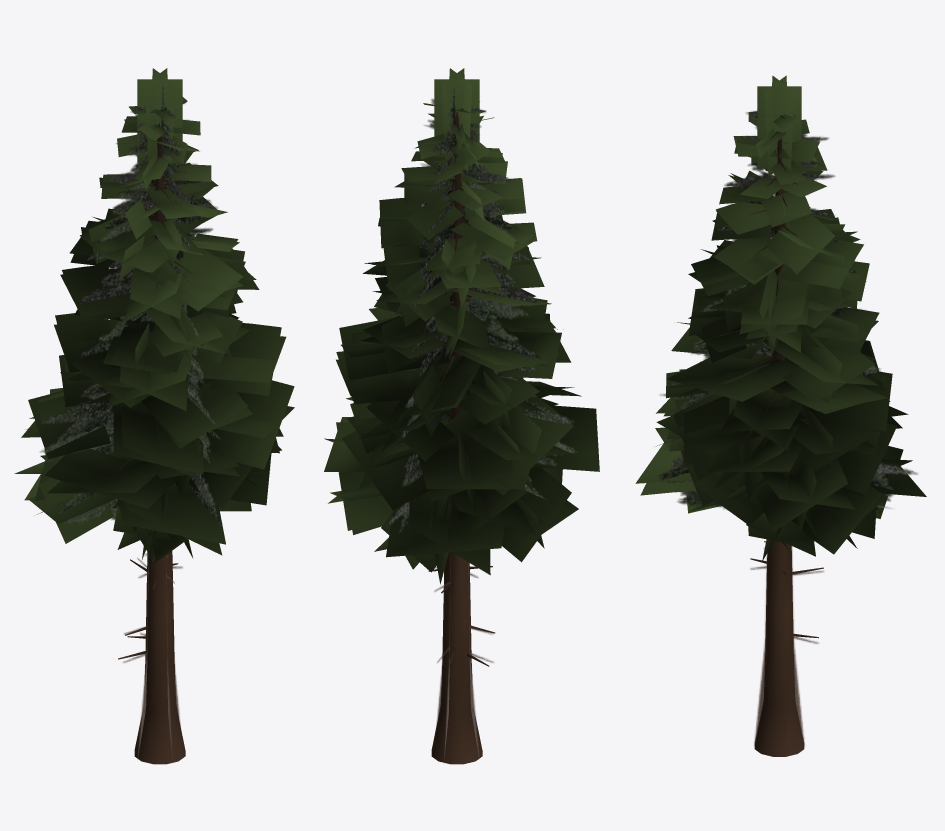
The model's file is veg.tree.sugi.glb.
3 renders of one model, left to right at view 1: azimuth 30°, elevation 25°; view 2: azimuth 150°, elevation 25°; view 3: azimuth 270°, elevation 25°, orthographic. The views are drawn at different scales.
Visible parts, largest first — view 1: LOD0, IMP; view 2: LOD0, IMP; view 3: LOD0, IMP.
Part boxes in pixels (x1,y1,x2,y2): LOD0: [14, 68, 294, 764]; IMP: [40, 77, 221, 759]; LOD0: [324, 68, 599, 764]; IMP: [381, 77, 576, 760]; LOD0: [635, 75, 926, 756]; IMP: [658, 110, 917, 745].
Size of what is drawn, in the model's own units: 6.17 by 15.2 by 6.17.
3 materials, 1 textured.
